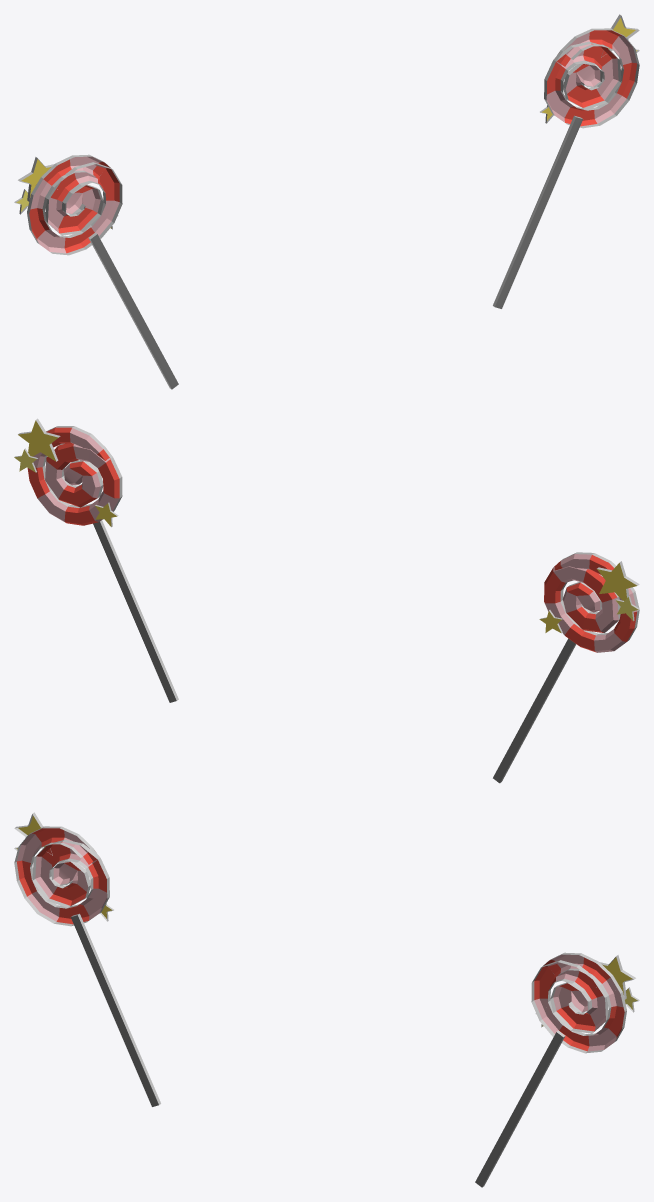
File: SM_Ark_AmusementPark_001.fbx
3 views of the same model, one above another, from view 1: azimuth 30°, elevation 25°; view 2: azimuth 150°, elevation 25°; view 3: azimuth 330°, elevation 25° (orthographic).
Visible parts, largest first — view 1: SM_Ark_AmusementPark_001; view 2: SM_Ark_AmusementPark_001; view 3: SM_Ark_AmusementPark_001.
Part boxes in pixels (<box>): SM_Ark_AmusementPark_001: <box>14,14,639,389</box>; SM_Ark_AmusementPark_001: <box>14,418,639,783</box>; SM_Ark_AmusementPark_001: <box>14,812,639,1187</box>.
Size of the model in its own units: 164 by 64.5 by 4.79.
